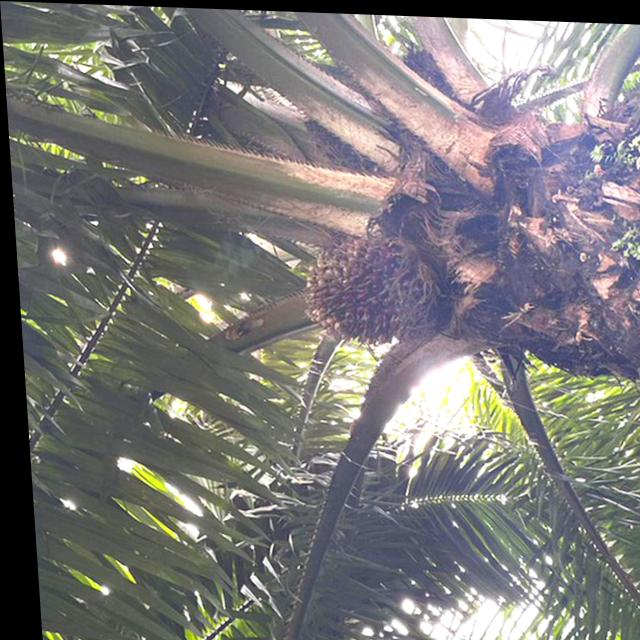ripe: (289, 232, 429, 348)
